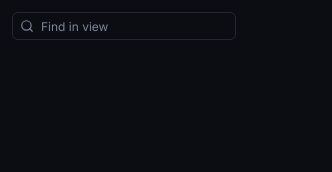
it: FindInView › says so when nothing matches
Type "qqq" into the dropdown at [124, 26], box [12,12,236,40]
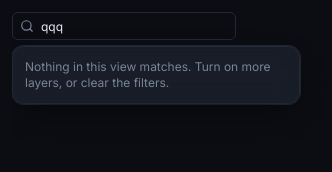
expect the list item "Nothing in this view matches" is shown: met, box [25,59,271,90]
